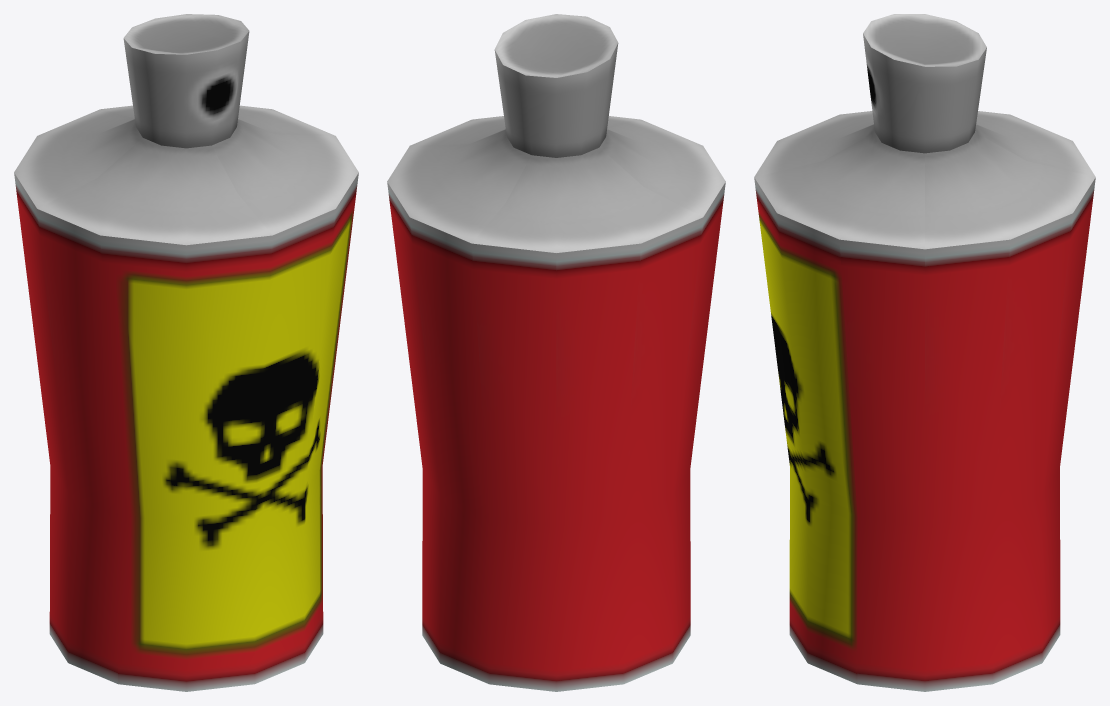
The model's file is assets_bugspray.fbx.
3 renders of one model, left to right at view 1: azimuth 30°, elevation 25°; view 2: azimuth 150°, elevation 25°; view 3: azimuth 270°, elevation 25°, orthographic.
Parts seen in each view (by area): view 1: assets_bugspray; view 2: assets_bugspray; view 3: assets_bugspray.
Part boxes in pixels (<box>): assets_bugspray: <box>14,14,358,691</box>; assets_bugspray: <box>387,14,725,691</box>; assets_bugspray: <box>754,14,1095,691</box>.
Bounding box in the file's own units: 2.28 × 4.42 × 2.28.
